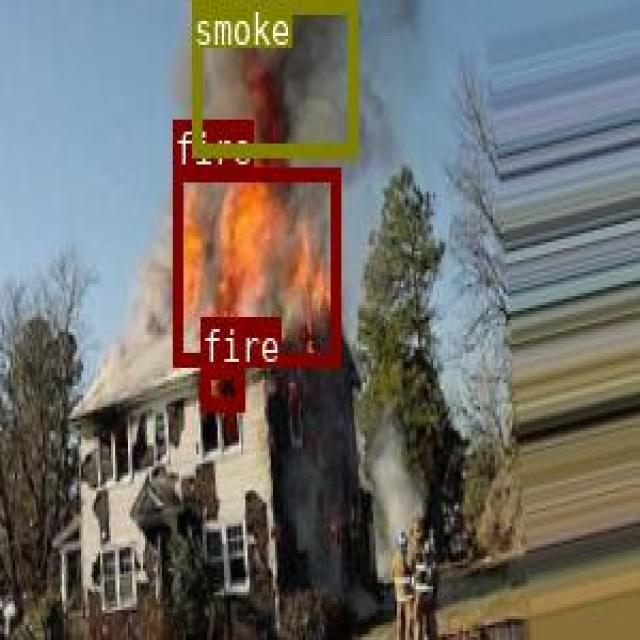fire: (172, 167, 338, 363), (200, 362, 243, 407)
smoke: (191, 0, 355, 153)
